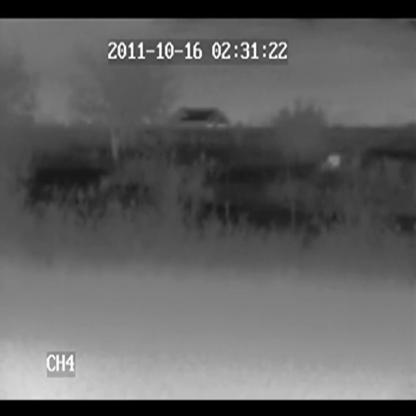rehkitze: (320, 152, 343, 174)
